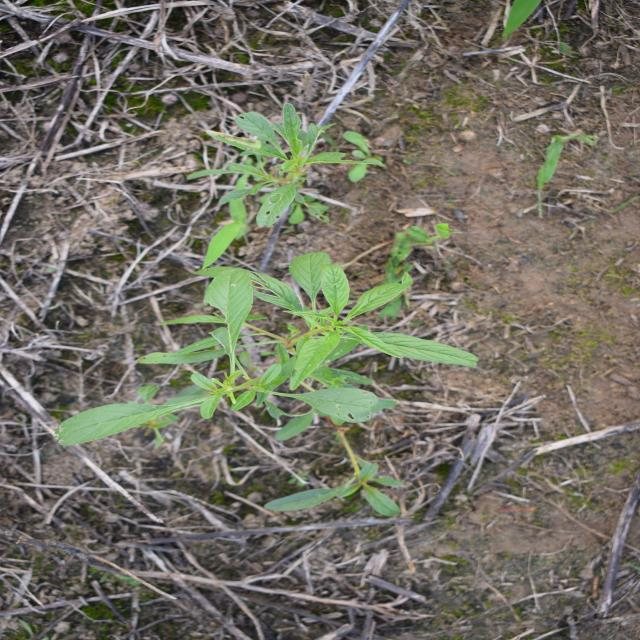Waterhemp: (54, 250, 480, 518), (184, 101, 385, 229)
